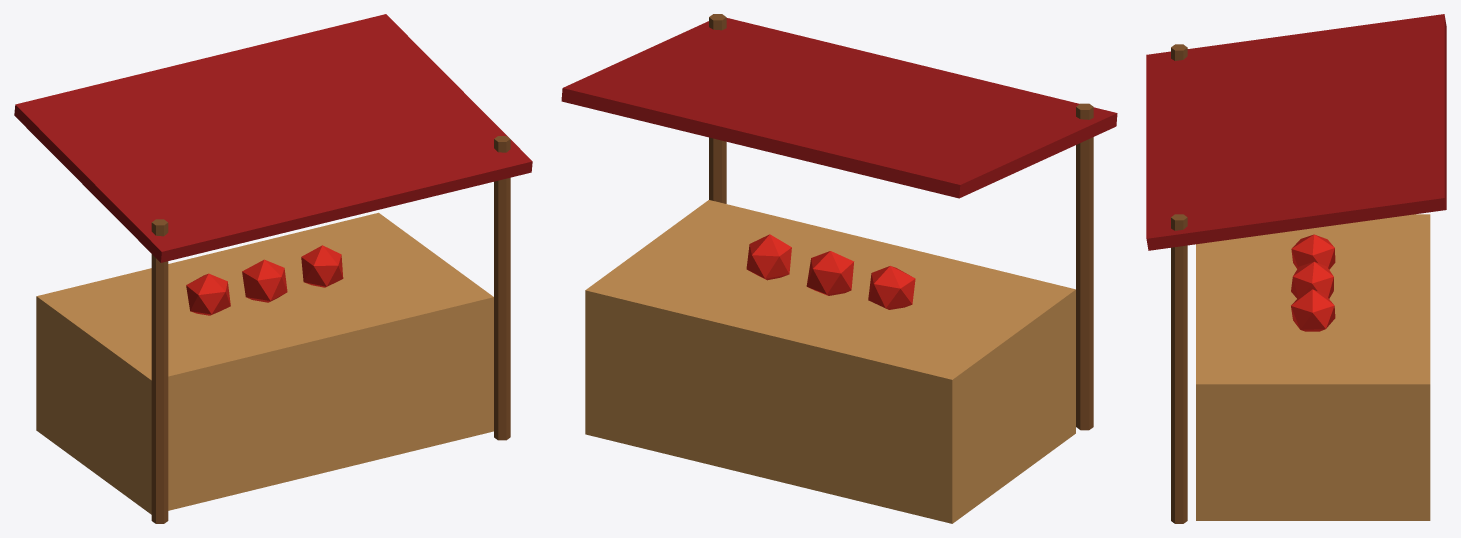
The model's file is market_awning.glb.
3 views of the same model, side by side, from view 1: azimuth 30°, elevation 25°; view 2: azimuth 150°, elevation 25°; view 3: azimuth 270°, elevation 25° (orthographic). The views are drawn at different scales.
Visible parts, largest first — view 1: market_awning; view 2: market_awning; view 3: market_awning.
Part boxes in pixels (x1,y1,x2,y2): market_awning: (14,14,532,523); market_awning: (561,14,1117,523); market_awning: (1146,14,1446,523).
Size of the model in its own units: 2.6 by 2.17 by 1.79.
